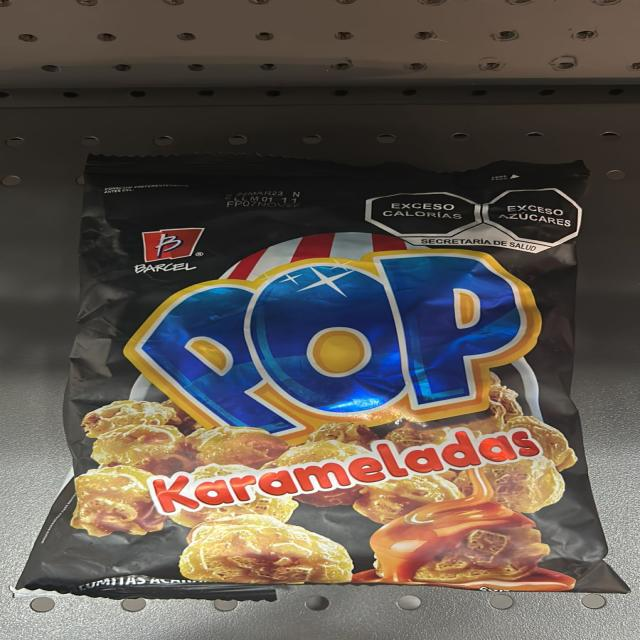popKarameladas: (97, 159, 596, 587)
